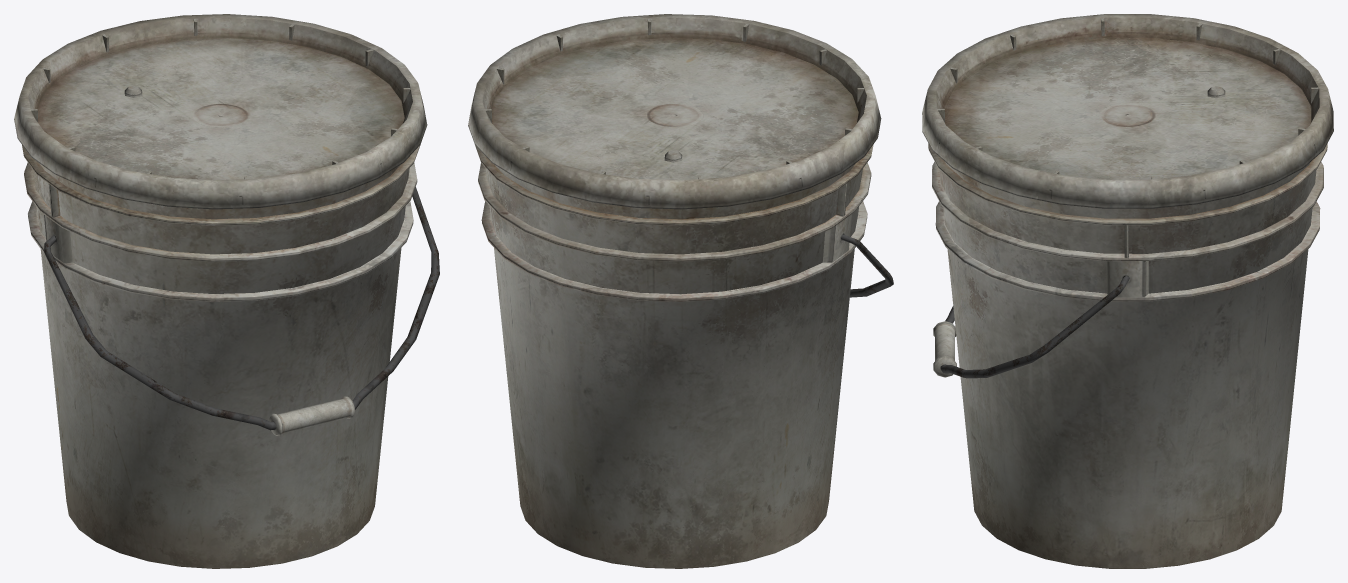
Rendered from bucket.glb.
The picture shows the model from 3 angles, left to right: view 1: azimuth 30°, elevation 25°; view 2: azimuth 150°, elevation 25°; view 3: azimuth 270°, elevation 25°; orthographic projection.
Parts seen in each view (by area): view 1: Object_142; view 2: Object_142; view 3: Object_142.
Part boxes in pixels (box(x1,y1,x2,y2)): Object_142: box(14, 14, 439, 568); Object_142: box(468, 14, 893, 568); Object_142: box(922, 14, 1333, 568).
Bounding box in the file's own units: 0.31 × 0.3305 × 0.3042.
Materials: 1 (1 with a texture image).
